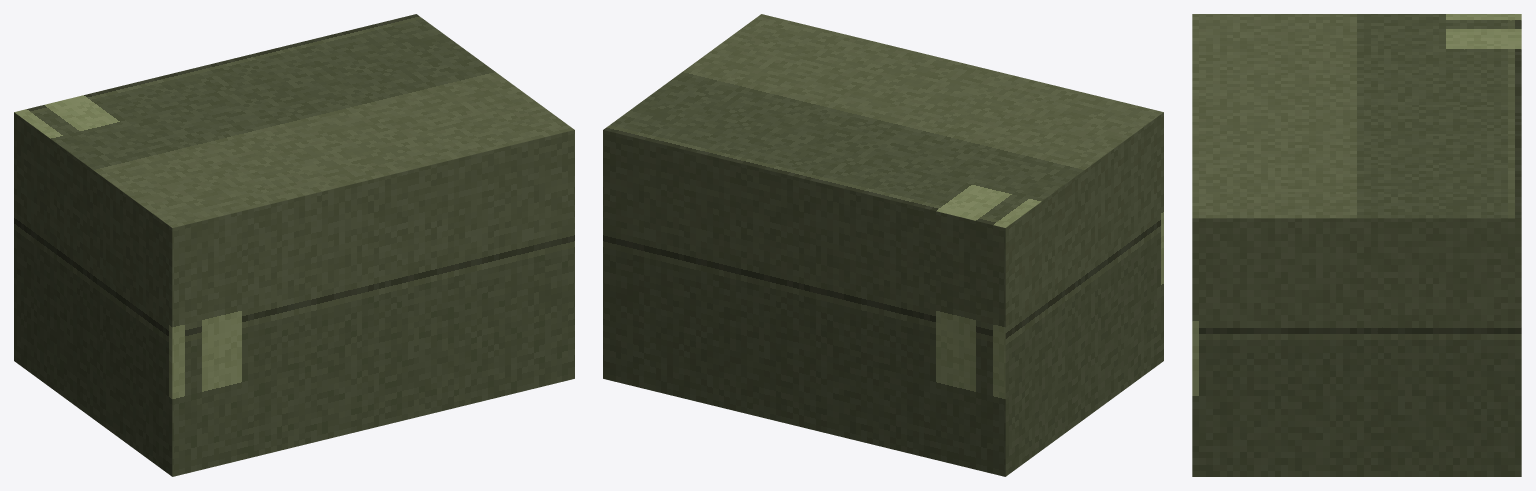
Rendered from fb_c_ration_case.glb.
3 renders of one model, left to right at view 1: azimuth 30°, elevation 25°; view 2: azimuth 150°, elevation 25°; view 3: azimuth 270°, elevation 25°, orthographic. The views are drawn at different scales.
Visible parts, largest first — view 1: fb_c_ration_case; view 2: fb_c_ration_case; view 3: fb_c_ration_case.
Boxes of the visible parts, x1,y1,x2,y2 form: fb_c_ration_case: (14, 14, 574, 476); fb_c_ration_case: (603, 14, 1163, 476); fb_c_ration_case: (1192, 14, 1521, 476).
Size of what is drawn, in the model's own units: 0.44 by 0.26 by 0.3.
1 material, 1 textured.
